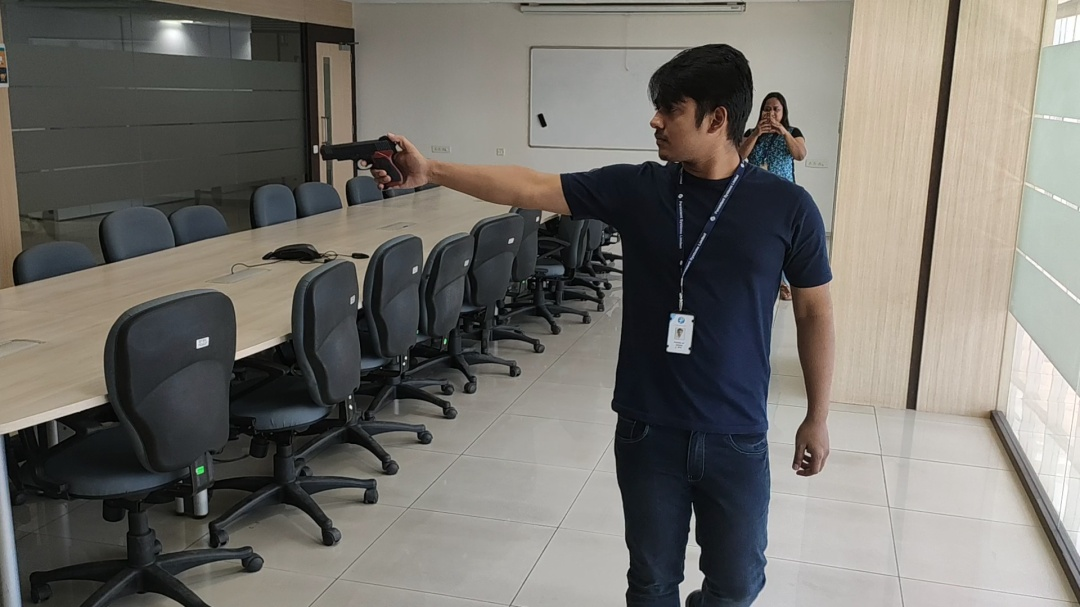gun: (312, 135, 408, 192)
